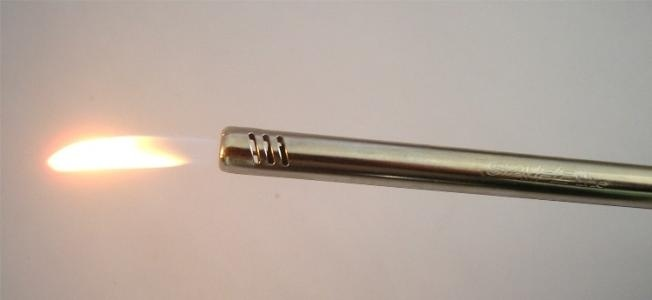fire: (43, 125, 192, 175)
